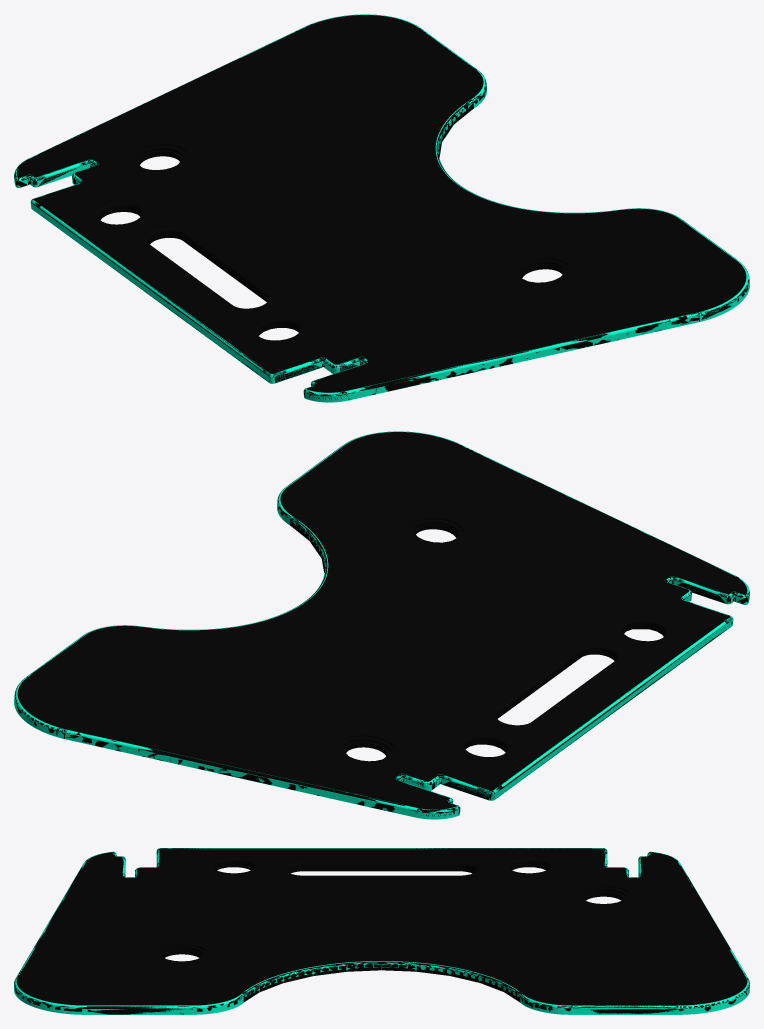
Rendered from desktopLwTrim.glb.
The picture shows the model from 3 angles, top to bottom: view 1: azimuth 30°, elevation 25°; view 2: azimuth 150°, elevation 25°; view 3: azimuth 270°, elevation 25°; orthographic projection. The views are drawn at different scales.
Size of the model in its own units: 37.48 by 3.98 by 59.48.
